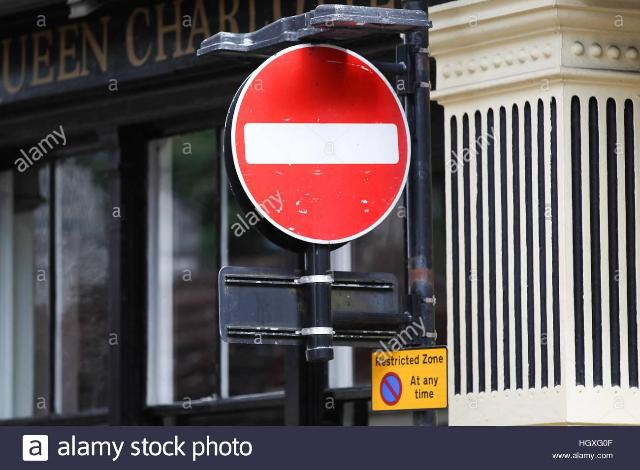B2: (222, 42, 412, 250), (370, 346, 448, 412)
